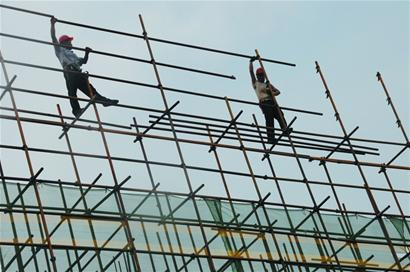helmet: (59, 34, 77, 49), (255, 65, 269, 82)
